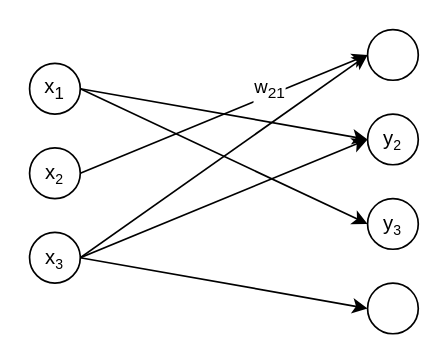
Some shapes in this 448 by 363 pixel diagram are drawn without their labels. Each missing label, with the centre of its shape:
"y 1" goes at [392,54].
"y 4" goes at [392,307].
